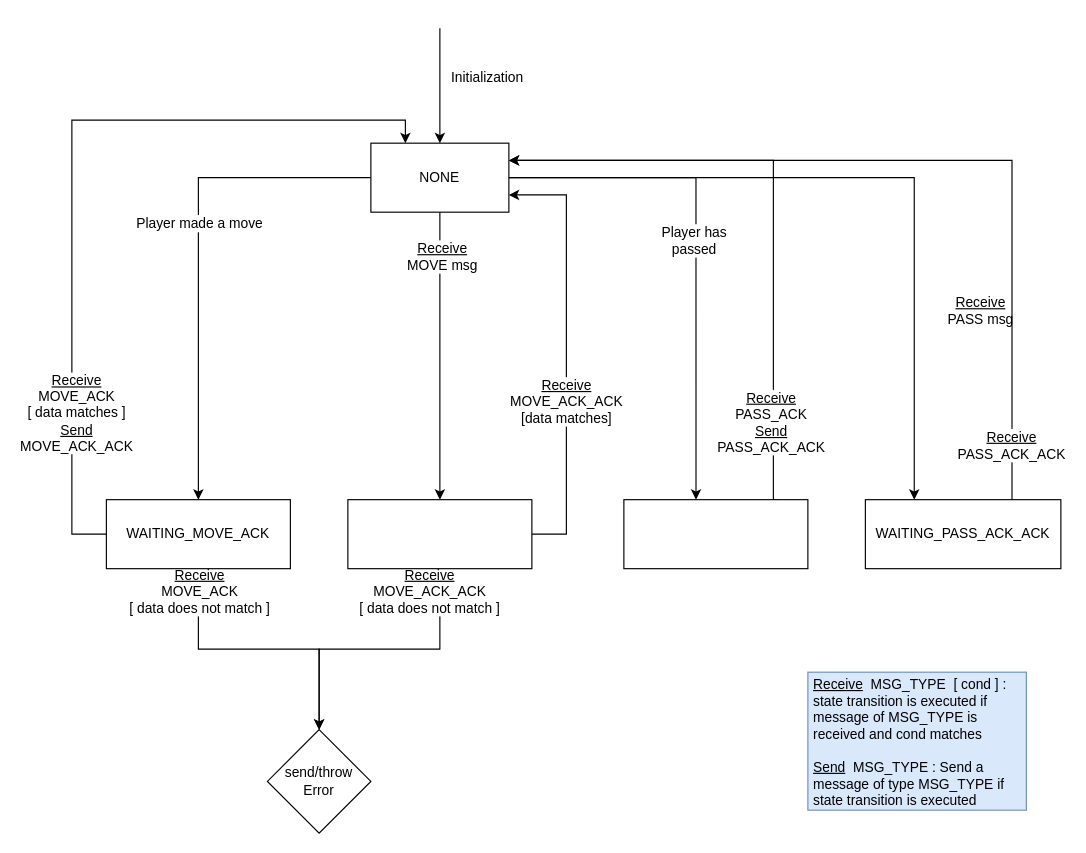
Some shapes in this 1086 by 853 pixel diagram are drawn without their labels. Each missing label, with the centre of its shape:
"WAITING_MOVE_ACK_ACK" goes at [439,534].
"WAITING_PASS_ACK" goes at [715,534].
